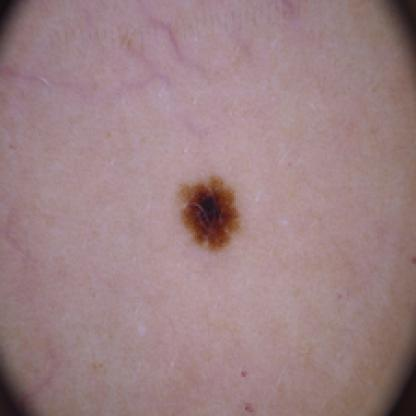benign: (176, 167, 244, 253)
